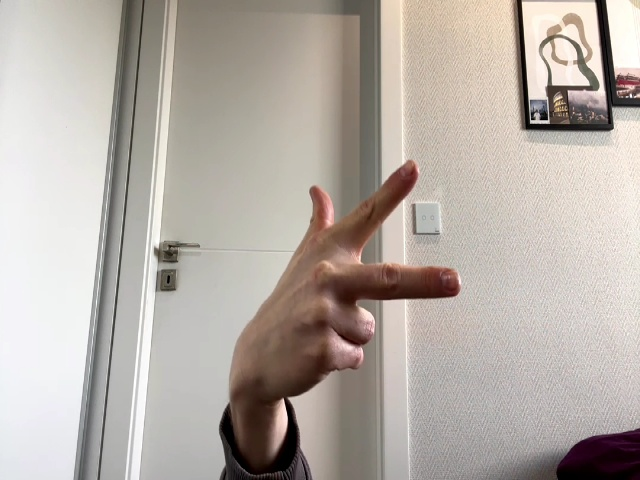K: (239, 161, 461, 399)
